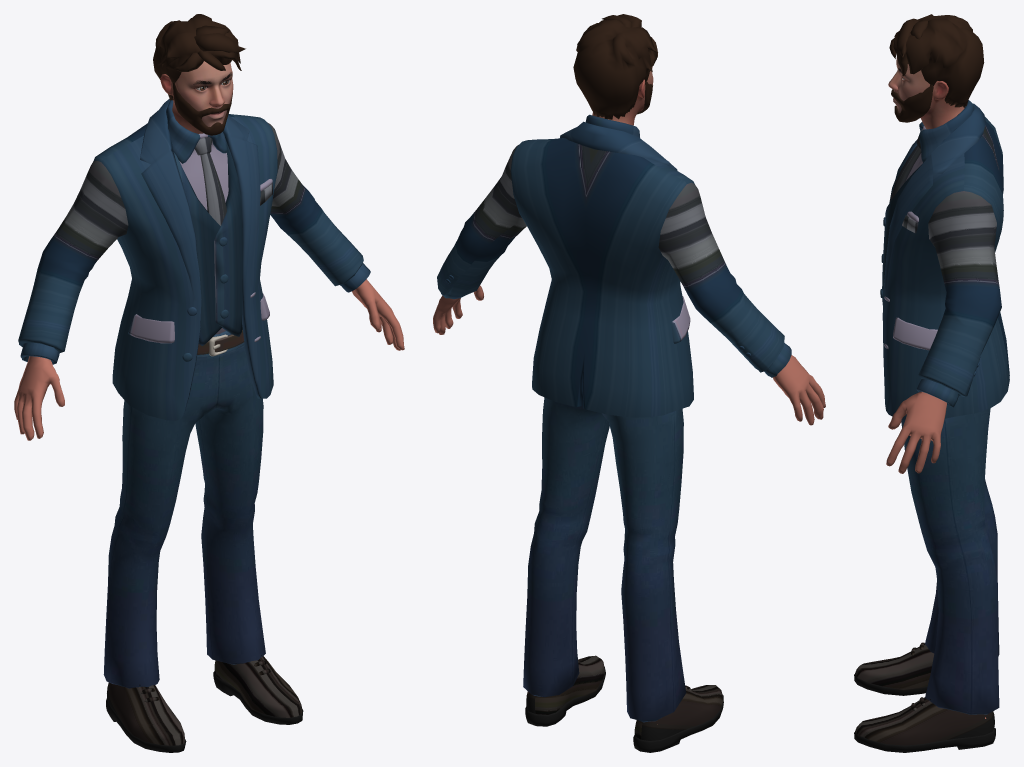
Rendered from MyAvatar01Copy.fbx.
3 renders of one model, left to right at view 1: azimuth 30°, elevation 25°; view 2: azimuth 150°, elevation 25°; view 3: azimuth 270°, elevation 25°, orthographic.
Visible parts, largest first — view 1: Wolf3D_Outfit_Top, Wolf3D_Outfit_Bottom, Wolf3D_Outfit_Footwear, Wolf3D_Hair, Wolf3D_Body, Wolf3D_Head, Wolf3D_Beard; view 2: Wolf3D_Outfit_Top, Wolf3D_Outfit_Bottom, Wolf3D_Hair, Wolf3D_Outfit_Footwear, Wolf3D_Body; view 3: Wolf3D_Outfit_Top, Wolf3D_Outfit_Bottom, Wolf3D_Outfit_Footwear, Wolf3D_Hair, Wolf3D_Body, Wolf3D_Head, Wolf3D_Beard.
Boxes of the visible parts, box(x1,y1,x2,y2) form: Wolf3D_Outfit_Top: box(18, 99, 370, 420); Wolf3D_Outfit_Bottom: box(103, 330, 265, 688); Wolf3D_Outfit_Footwear: box(106, 655, 303, 752); Wolf3D_Hair: box(153, 14, 245, 100); Wolf3D_Body: box(14, 279, 404, 440); Wolf3D_Head: box(160, 61, 233, 133); Wolf3D_Beard: box(172, 82, 232, 135); Wolf3D_Outfit_Top: box(437, 114, 791, 417); Wolf3D_Outfit_Bottom: box(523, 397, 686, 722); Wolf3D_Hair: box(573, 14, 657, 119); Wolf3D_Outfit_Footwear: box(525, 655, 723, 752); Wolf3D_Body: box(433, 285, 825, 724); Wolf3D_Outfit_Top: box(880, 100, 1009, 419); Wolf3D_Outfit_Bottom: box(901, 408, 999, 714); Wolf3D_Outfit_Footwear: box(854, 642, 995, 752); Wolf3D_Hair: box(889, 14, 984, 107); Wolf3D_Body: box(886, 391, 986, 718); Wolf3D_Head: box(888, 57, 964, 129); Wolf3D_Beard: box(891, 84, 933, 122).
Size of the model in its own units: 1.06 by 1.86 by 0.3773.
9 materials, 9 textured.
